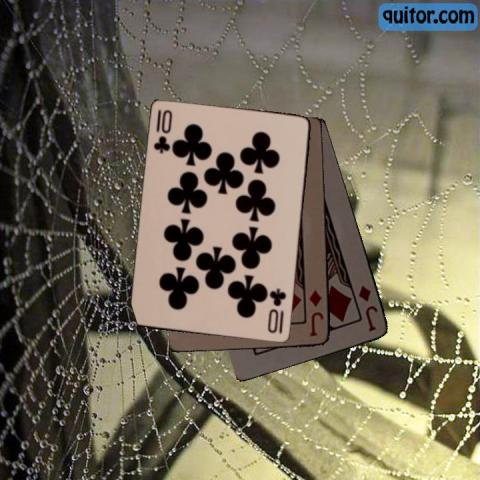10c: (265, 285, 288, 336), (151, 107, 174, 155)
Jd: (355, 282, 380, 333), (307, 287, 325, 338)
